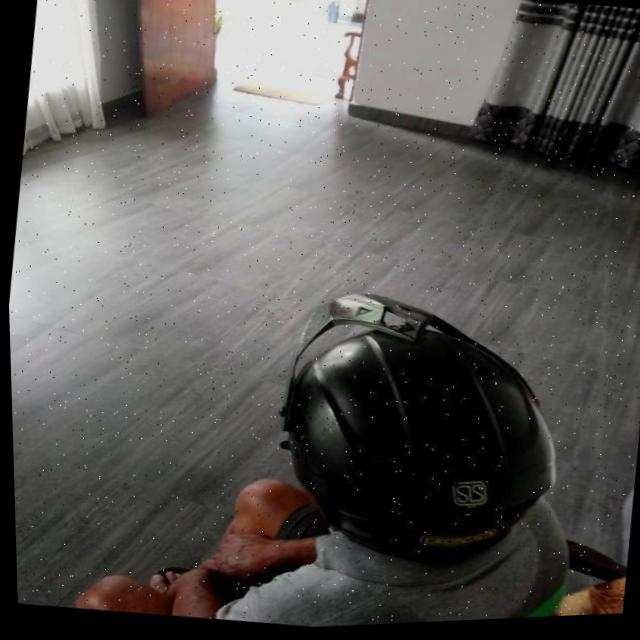helmet: (254, 277, 575, 593)
